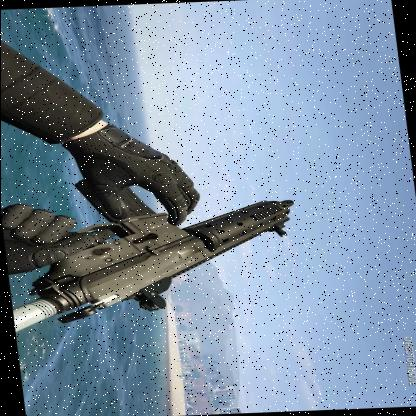rifle: (0, 176, 326, 343)
